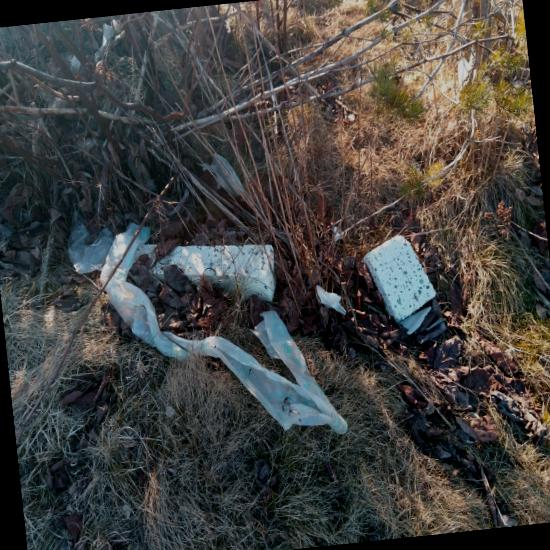Disposable plastic cup: (191, 298, 242, 358), (364, 242, 413, 281)
Other plastic: (434, 195, 439, 207)
Plastic straw: (331, 260, 369, 283)
Unlabeled litter: (145, 176, 206, 218), (239, 327, 291, 373), (458, 194, 489, 238)
